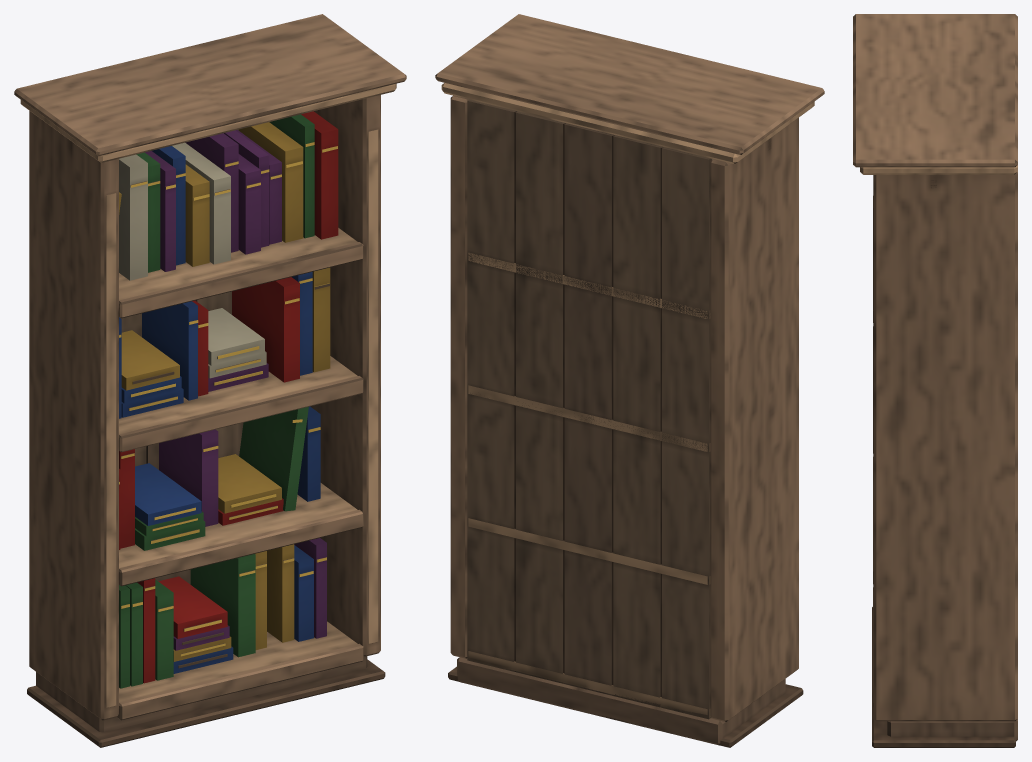
File: bookshelf_tex.glb
3 views of the same model, side by side, from view 1: azimuth 30°, elevation 25°; view 2: azimuth 150°, elevation 25°; view 3: azimuth 270°, elevation 25° (orthographic). The views are drawn at different scales.
Visible parts, largest first — view 1: bookshelf; view 2: bookshelf; view 3: bookshelf.
Part boxes in pixels (x1,y1,x2,y2): bookshelf: (14,14,406,747); bookshelf: (435,14,824,747); bookshelf: (853,14,1017,747).
Size of the model in its own units: 1.02 by 1.91 by 0.48.
Materials: 14 (14 with a texture image).
